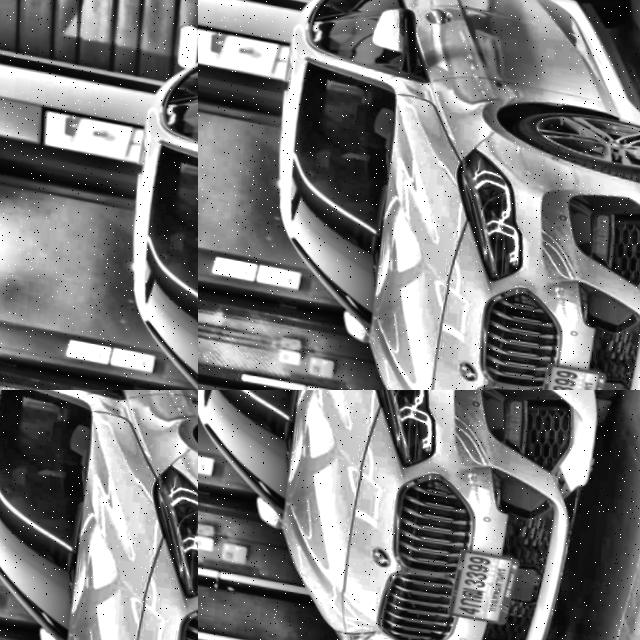license-plate: (441, 539, 520, 622), (209, 359, 228, 386)
